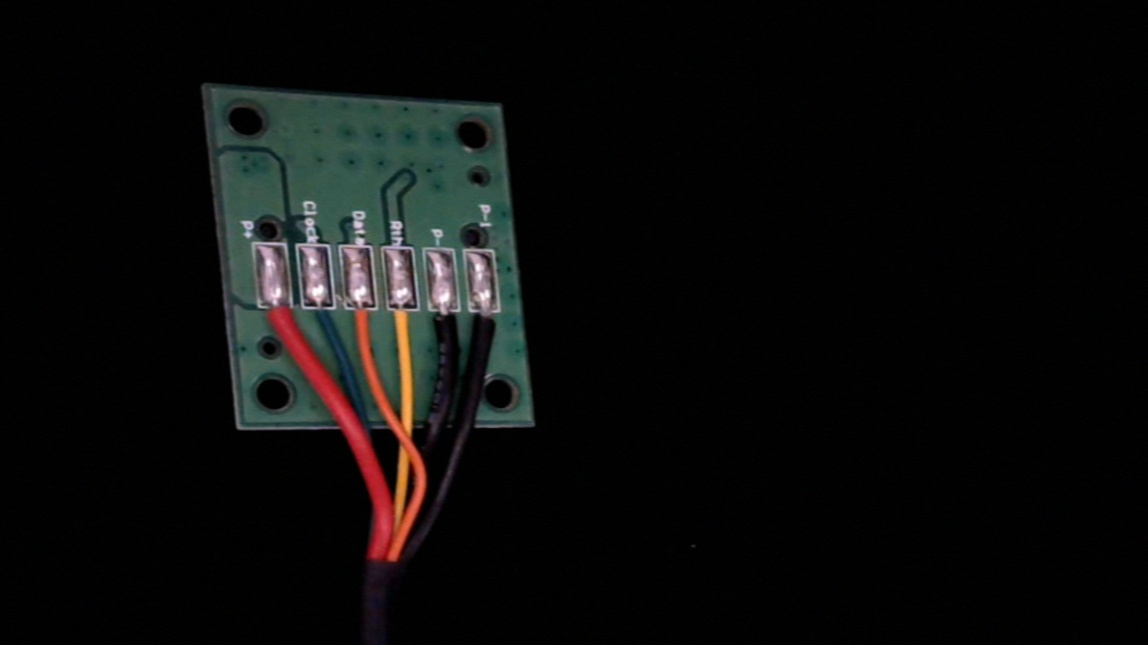Black: (424, 291, 467, 364)
Black1: (469, 294, 511, 361)
Green: (302, 285, 342, 345)
Orange: (344, 287, 386, 359)
Red: (257, 289, 297, 350)
Yellow: (384, 289, 428, 363)
